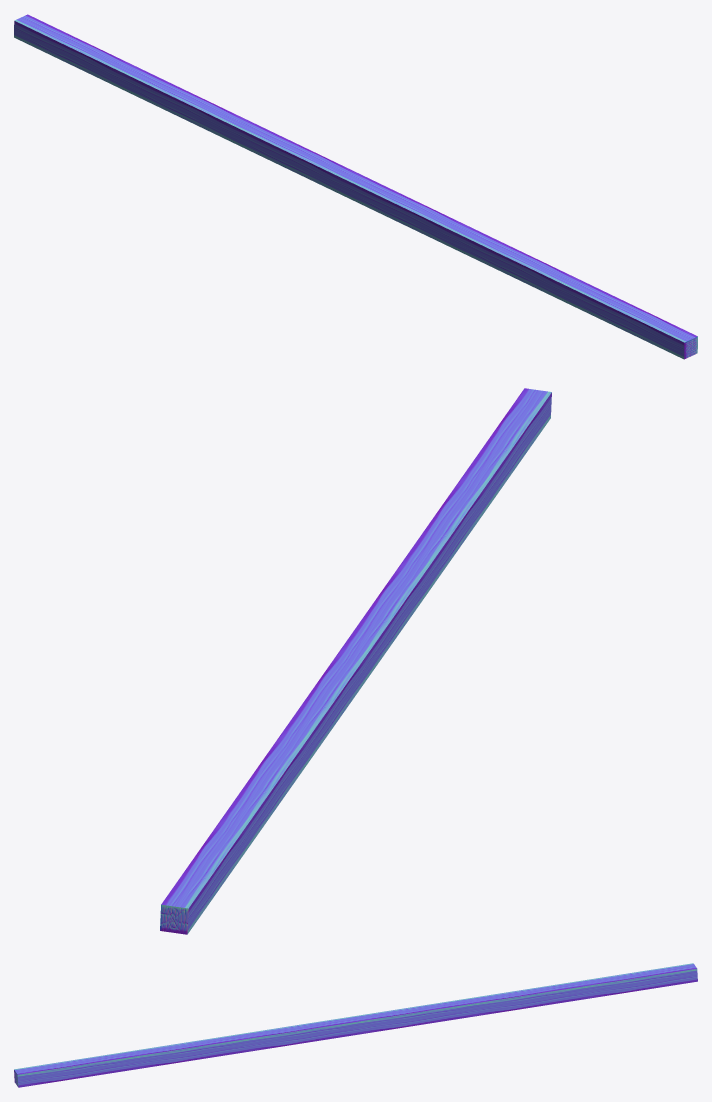
Rendered from support_01.fbx.
3 renders of one model, top to bottom at view 1: azimuth 30°, elevation 25°; view 2: azimuth 150°, elevation 25°; view 3: azimuth 270°, elevation 25°, orthographic. The views are drawn at different scales.
Visible parts, largest first — view 1: Cube__1_.001; view 2: Cube__1_.001; view 3: Cube__1_.001.
Boxes of the visible parts, box(x1,y1,x2,y2) form: Cube__1_.001: box(14, 14, 697, 359); Cube__1_.001: box(160, 388, 551, 934); Cube__1_.001: box(14, 963, 697, 1087).
Size of the model in its own units: 589 by 140 by 2049.
